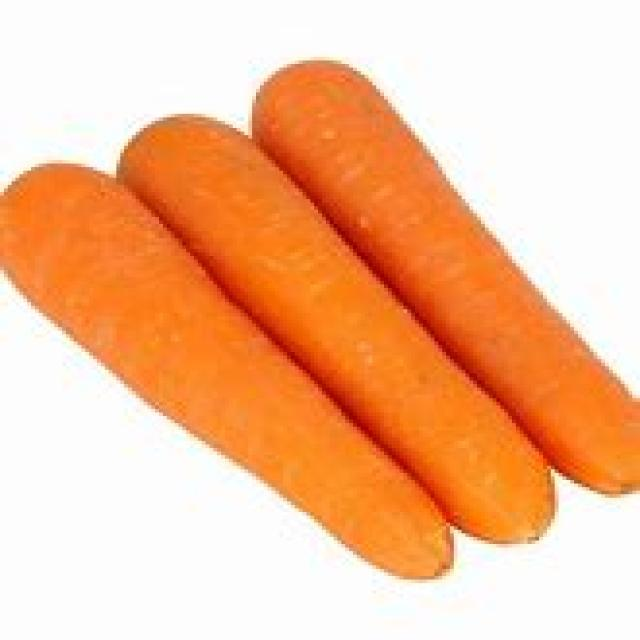carrot: (0, 163, 452, 575), (125, 122, 560, 542), (250, 60, 639, 497)
